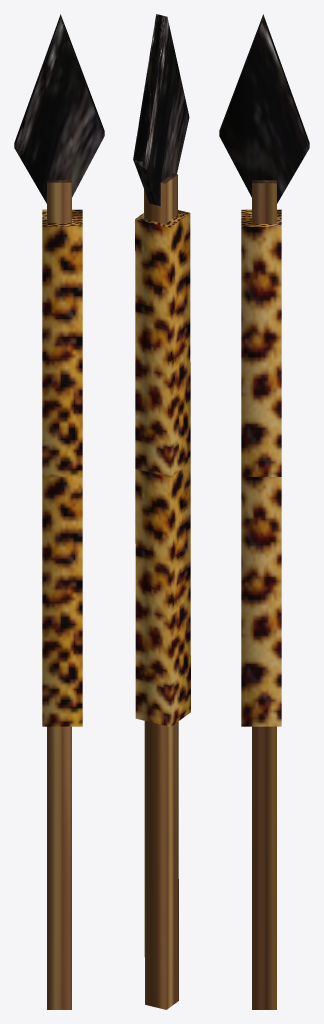
File: maya_lana_curta_2.dae
3 views of the same model, side by side, from view 1: azimuth 90°, elevation 25°; view 2: azimuth 150°, elevation 25°; view 3: azimuth 270°, elevation 25° (orthographic).
Parts seen in each view (by area): view 1: maya_lana_curta_2; view 2: maya_lana_curta_2; view 3: maya_lana_curta_2.
Boxes of the visible parts, x1,y1,x2,y2 form: maya_lana_curta_2: (14, 14, 104, 1009); maya_lana_curta_2: (133, 14, 190, 1009); maya_lana_curta_2: (219, 14, 309, 1009).
Size of the model in its own units: 0.169 by 0.3713 by 4.48.
1 material, 1 textured.
